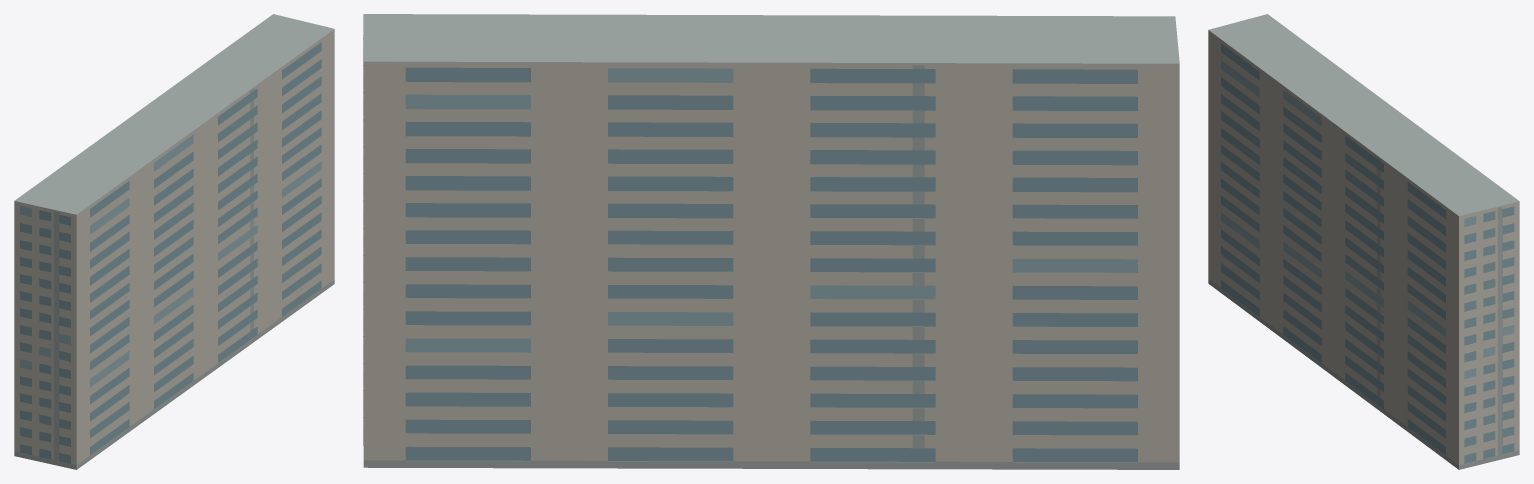
Rendered from residential-a2fdfd78-3206-41bf-9d19-5aecfadf1bf8.glb.
3 views of the same model, side by side, from view 1: azimuth 30°, elevation 25°; view 2: azimuth 150°, elevation 25°; view 3: azimuth 270°, elevation 25° (orthographic). The views are drawn at different scales.
Parts seen in each view (by area): view 1: residential-a2fdfd78-3206-41bf-9d19-5aecfadf1bf8.tmp; view 2: residential-a2fdfd78-3206-41bf-9d19-5aecfadf1bf8.tmp; view 3: residential-a2fdfd78-3206-41bf-9d19-5aecfadf1bf8.tmp.
Boxes of the visible parts, x1=… form: residential-a2fdfd78-3206-41bf-9d19-5aecfadf1bf8.tmp: x1=14, y1=14, x2=334, y2=469; residential-a2fdfd78-3206-41bf-9d19-5aecfadf1bf8.tmp: x1=363, y1=14, x2=1179, y2=469; residential-a2fdfd78-3206-41bf-9d19-5aecfadf1bf8.tmp: x1=1208, y1=14, x2=1519, y2=469.
Bounding box in the file's own units: 78.2 × 45.75 × 50.89.
